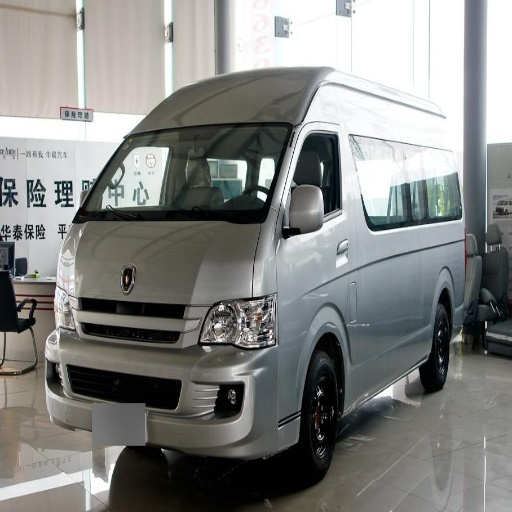front_bumper: (46, 271, 310, 458)
front_glass: (78, 90, 292, 221)
front_left_door: (278, 123, 352, 282), (349, 283, 404, 387)
front_right_light: (58, 250, 75, 328)
trunk: (388, 224, 467, 300)
